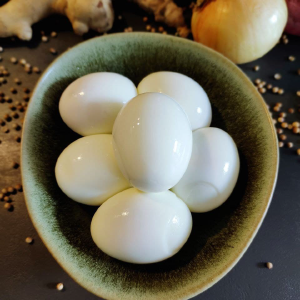Telur: (60, 179, 196, 272), (121, 102, 186, 175), (170, 133, 232, 209), (152, 63, 217, 123), (58, 136, 117, 198), (63, 75, 122, 131)
